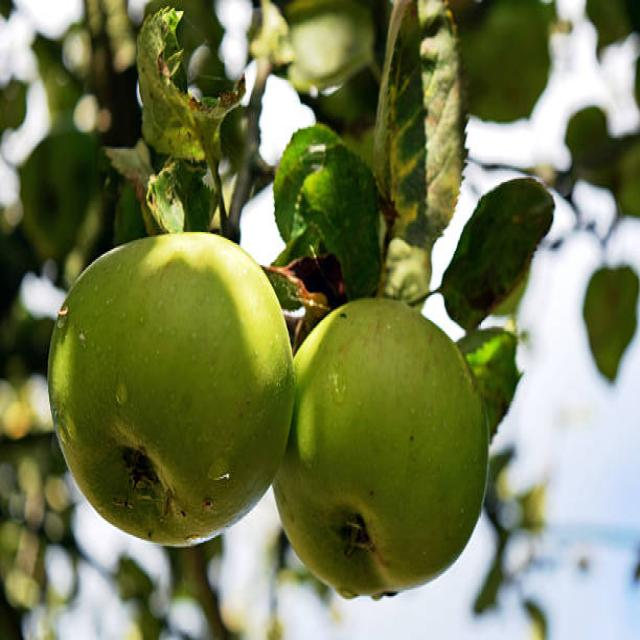Unripe: (46, 233, 294, 547), (274, 293, 489, 599)
